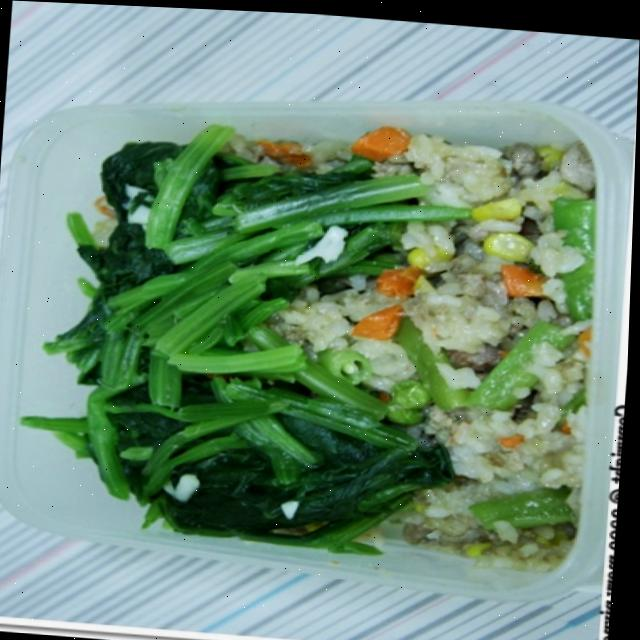蔬菜料理: (0, 76, 503, 612)
